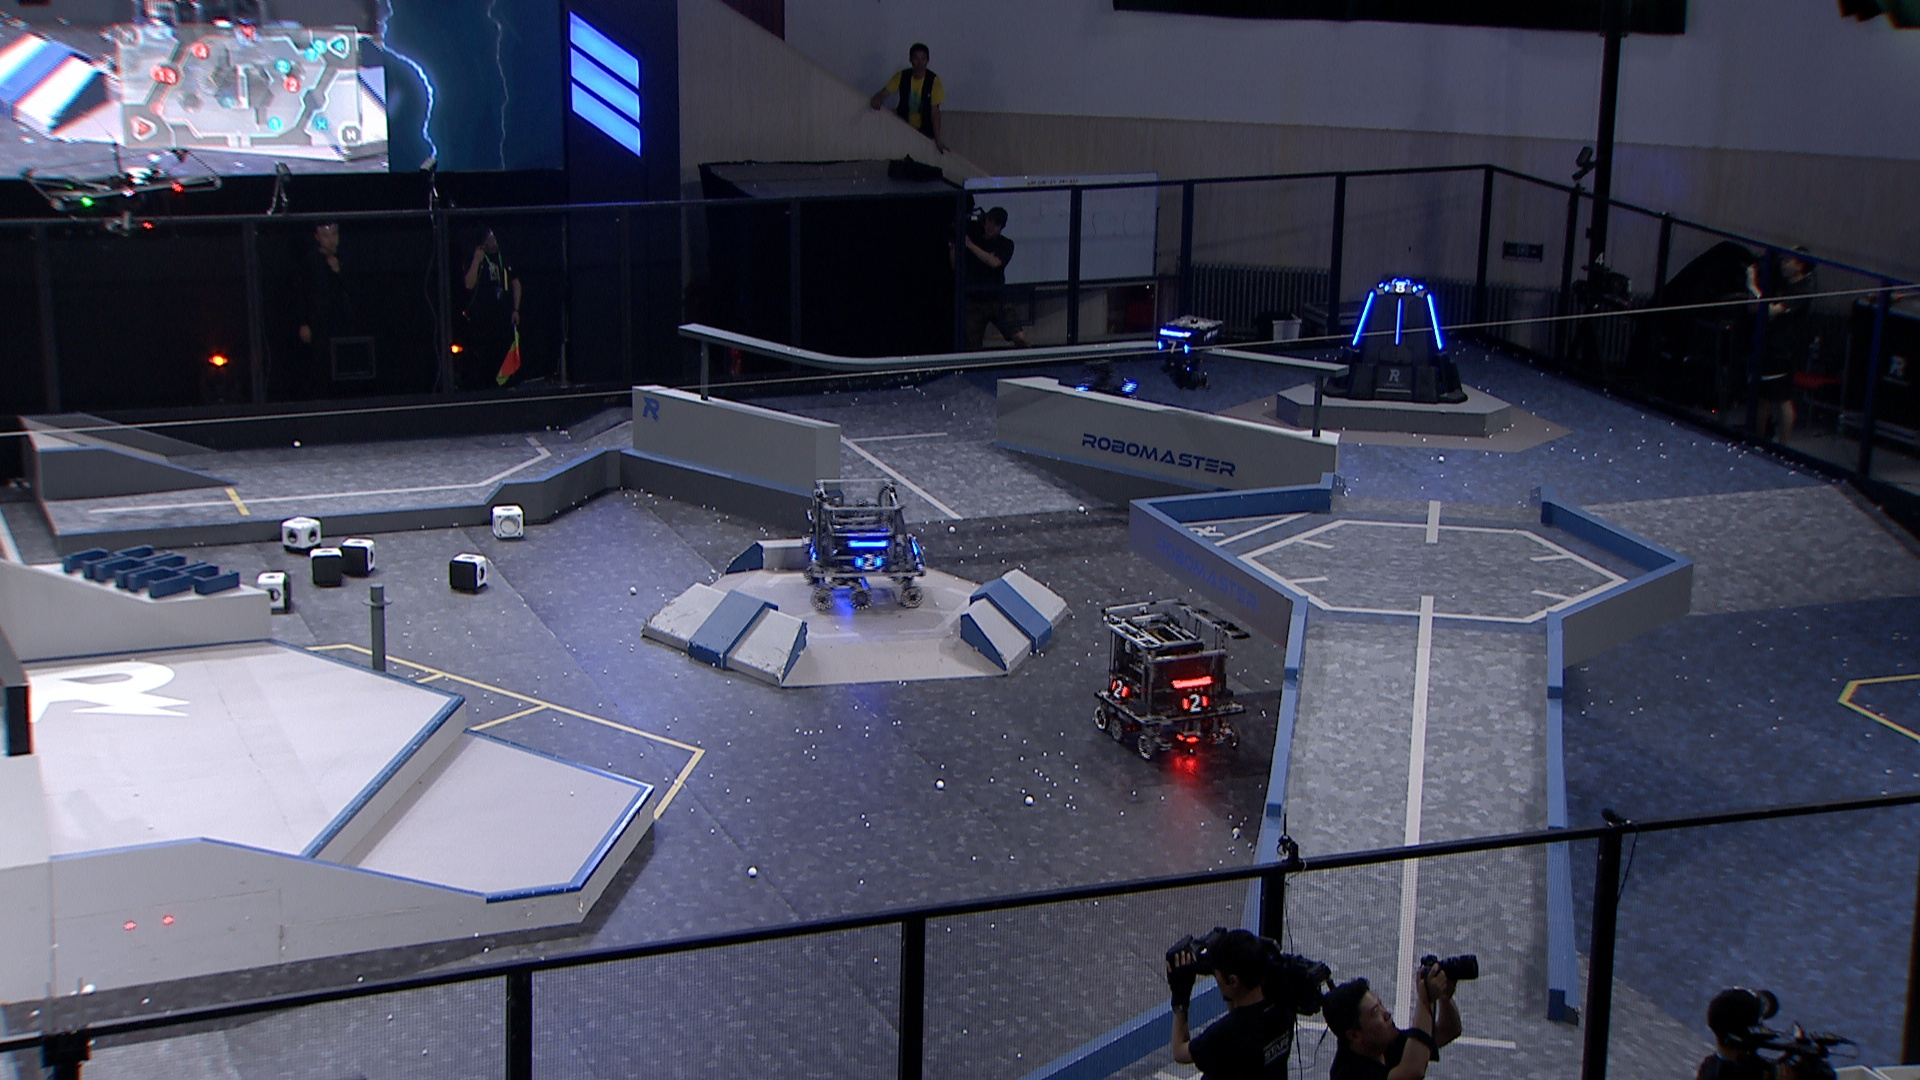armor: (1348, 291, 1375, 347), (1427, 294, 1447, 349), (1153, 338, 1193, 357), (1182, 692, 1211, 716), (1106, 678, 1134, 700), (855, 553, 885, 572), (1381, 282, 1422, 295), (1395, 299, 1403, 347)
base: (1315, 272, 1468, 404)
car: (1087, 593, 1257, 761), (800, 476, 928, 612), (1067, 357, 1143, 414)
watcher: (1149, 313, 1220, 392)
